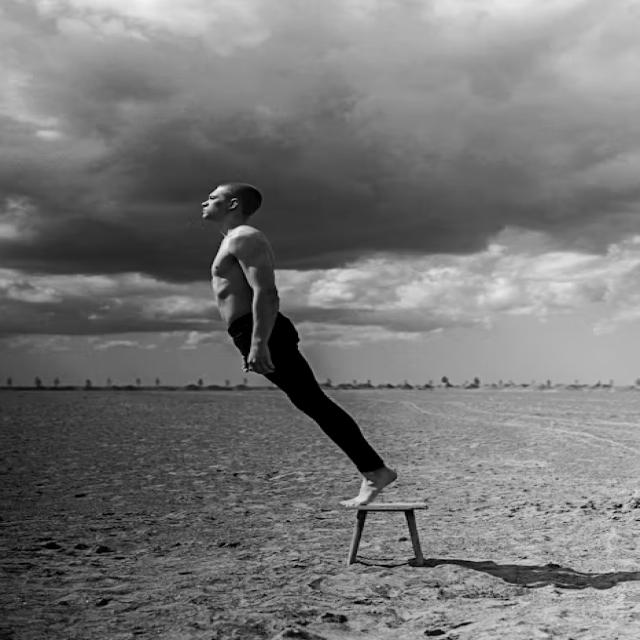Edited images: (173, 163, 437, 513)
